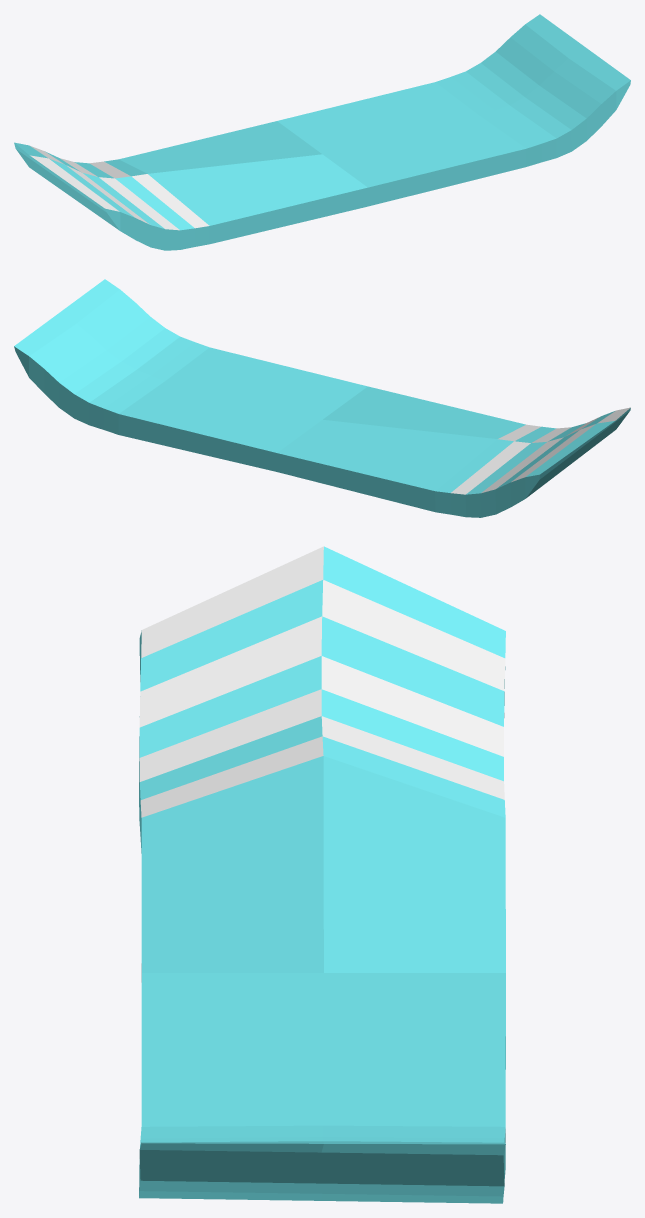
The model's file is SnoubordMesh.fbx.
3 renders of one model, top to bottom at view 1: azimuth 30°, elevation 25°; view 2: azimuth 150°, elevation 25°; view 3: azimuth 270°, elevation 25°, orthographic. The views are drawn at different scales.
Visible parts, largest first — view 1: Куб; view 2: Куб; view 3: Куб.
Part boxes in pixels (<box>): Куб: <box>14,14,630,250</box>; Куб: <box>14,279,630,517</box>; Куб: <box>139,546,505,1203</box>.
Size of the model in its own units: 101 by 55.2 by 353.
